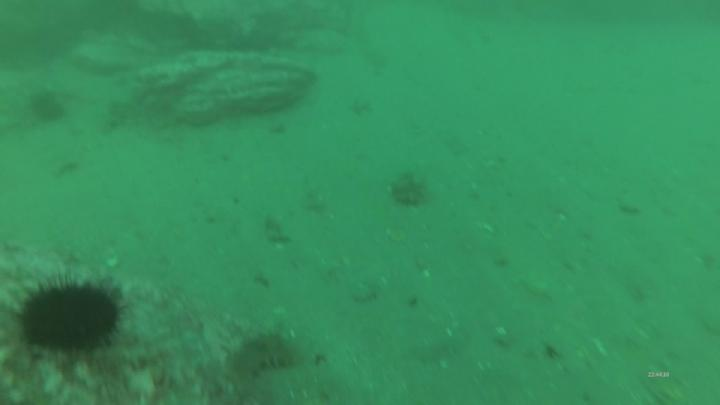echinus: (9, 271, 127, 360), (27, 89, 67, 127)
holothurian: (219, 329, 300, 395)
